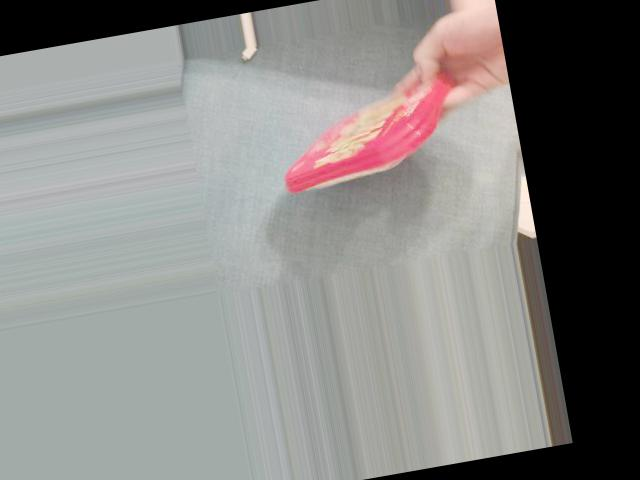cheese: (272, 71, 457, 197)
